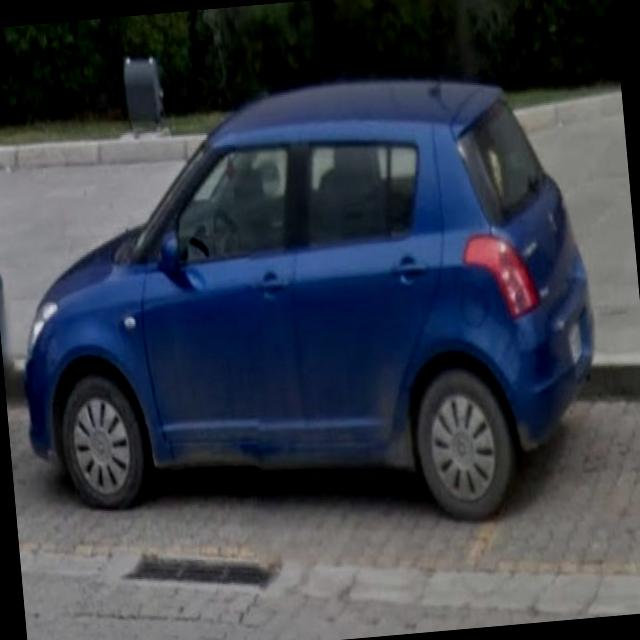car: (9, 62, 609, 548)
